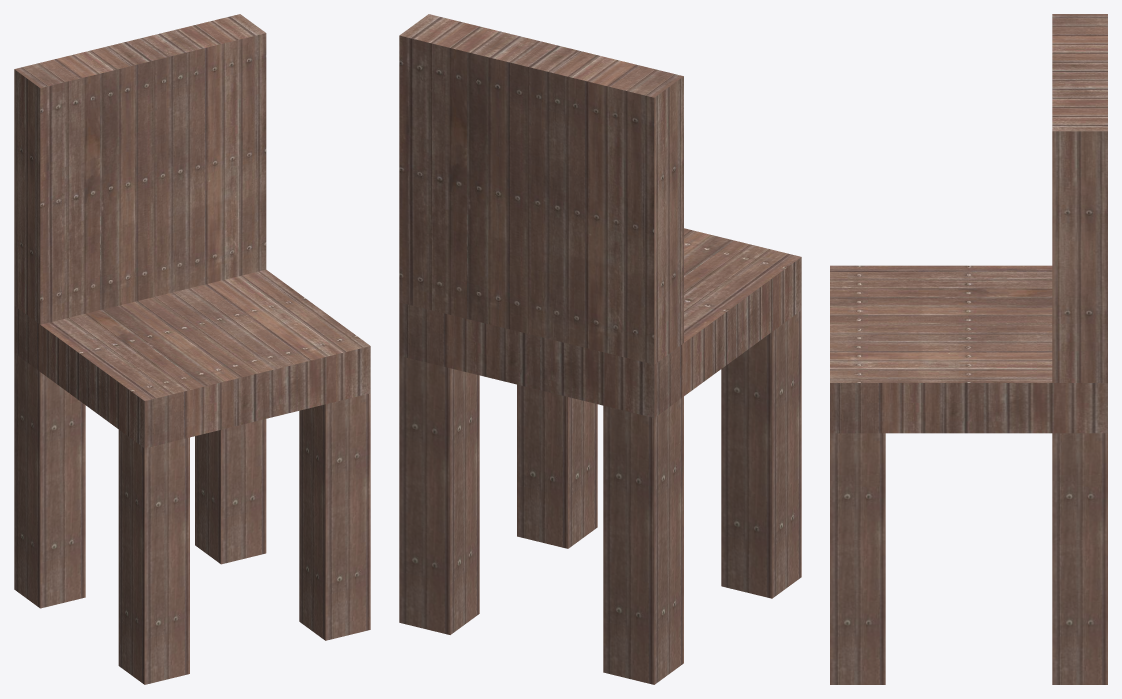
Rendered from 01-chair.fbx.
3 views of the same model, side by side, from view 1: azimuth 30°, elevation 25°; view 2: azimuth 150°, elevation 25°; view 3: azimuth 270°, elevation 25° (orthographic). The views are drawn at different scales.
Visible parts, largest first — view 1: Cube_6; view 2: Cube_6; view 3: Cube_6.
Boxes of the visible parts, x1,y1,x2,y2 form: Cube_6: (14,14,370,684); Cube_6: (399,14,801,684); Cube_6: (830,14,1107,684).
Bounding box in the file's own units: 1.25 × 2.75 × 1.25.
Materials: 1 (1 with a texture image).
